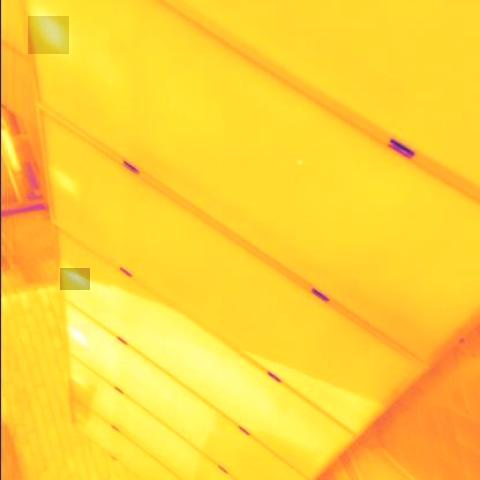fault: (28, 16, 69, 54), (60, 268, 90, 290), (66, 324, 90, 351)
